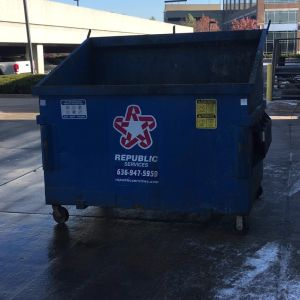Dumpster: (29, 20, 280, 242)
